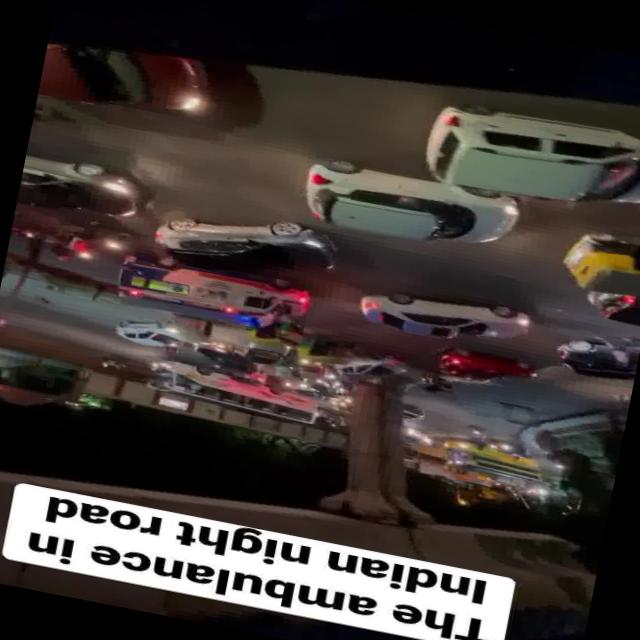ambulance: (99, 240, 312, 348)
